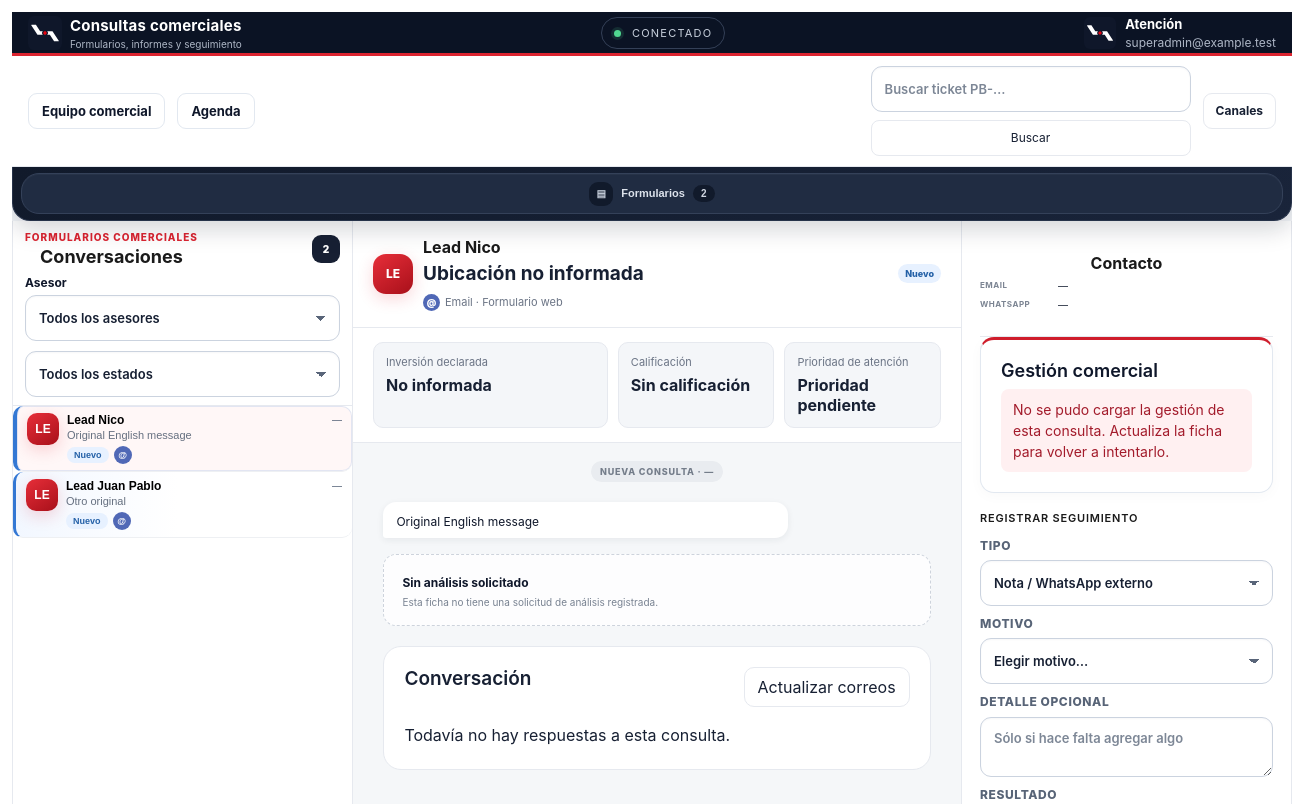
Test case: CRM histórico unificado › filtra la bandeja comercial por asignación persistida sin modificar casos ni traducir mensajes
Select "Mis consultas" in the dropdown named "Filtrar por asesor". click: [182, 318]
box: [25, 295, 340, 341]
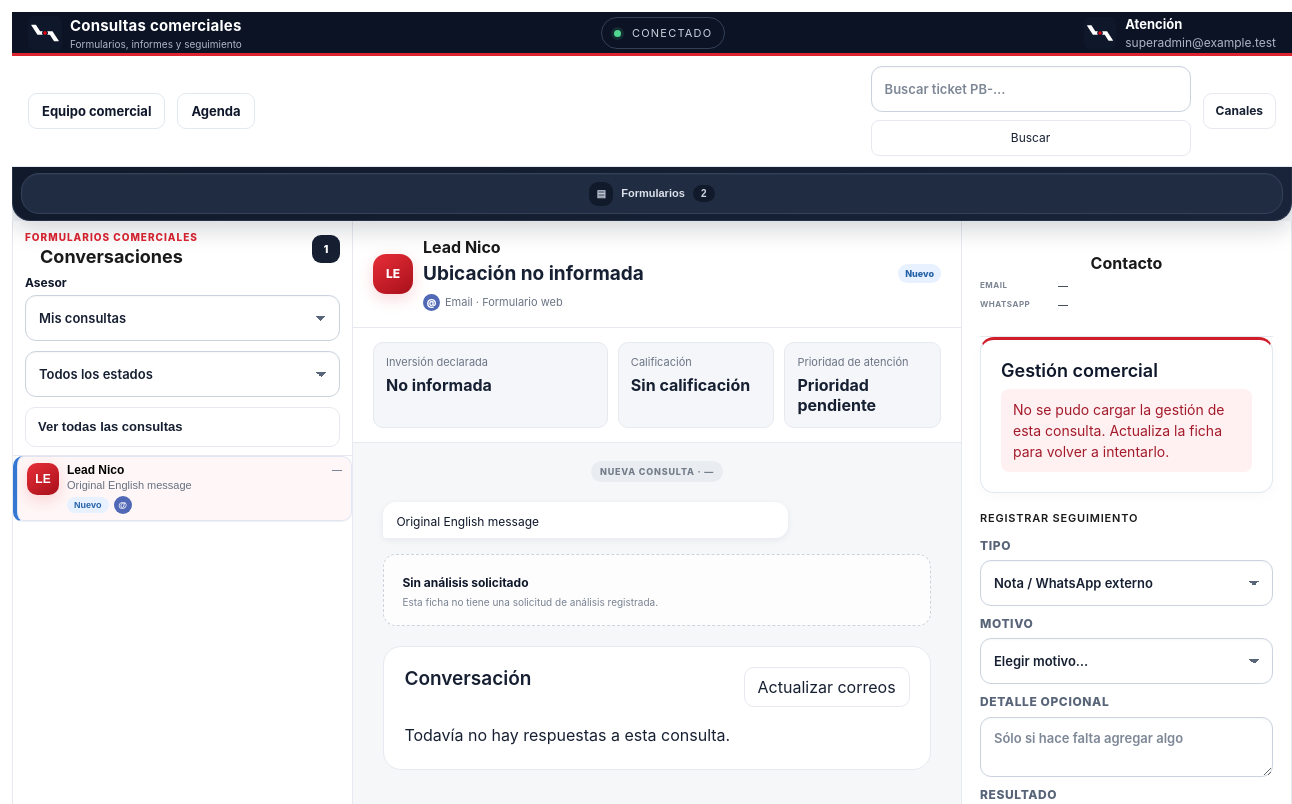
Check: the button "LE Lead Nico — Original English message Nuevo @" is shown, box [13, 456, 352, 522]
Check: the button "Lead Juan Pablo" is gone
Select "Juan Pablo" in the dropdown named "Filtrar por asesor". click: [182, 318]
box: [25, 295, 340, 341]
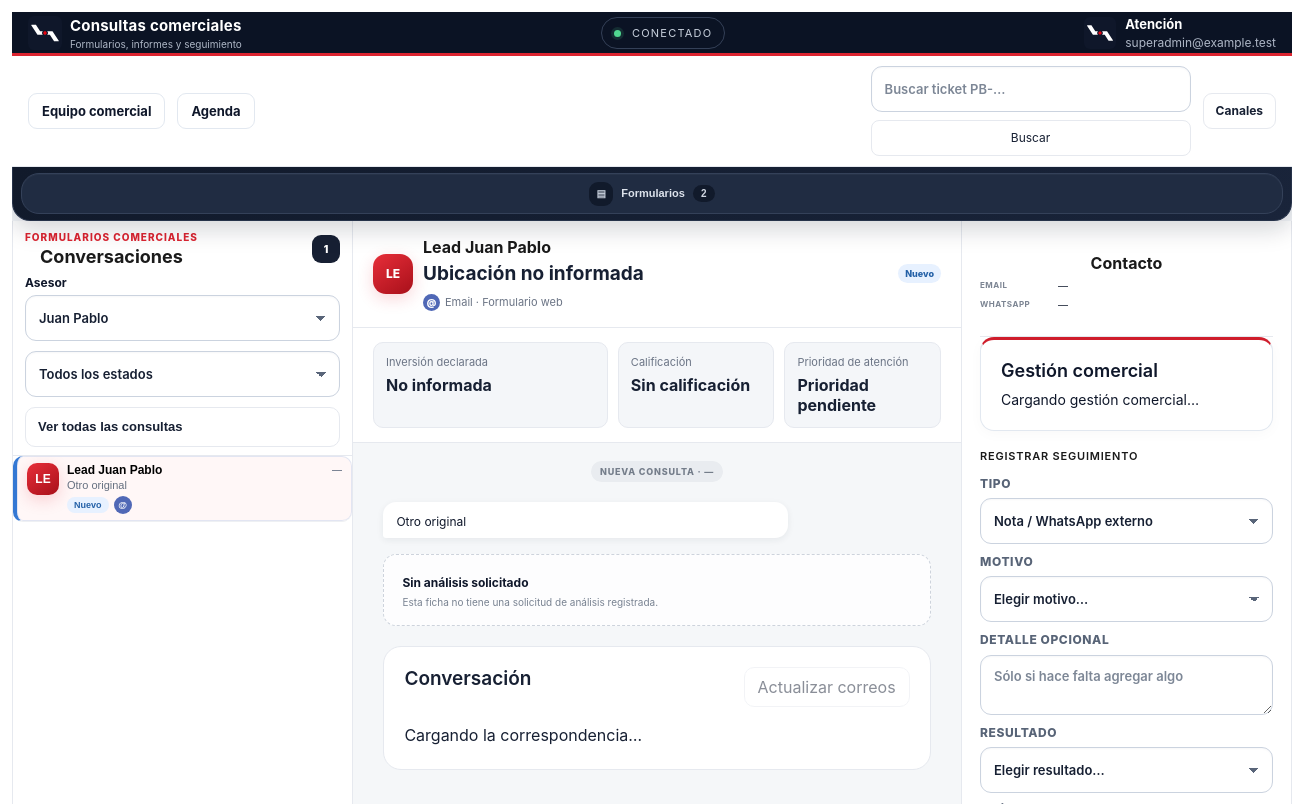
Check: the button "LE Lead Juan Pablo — Otro original Nuevo @" is shown, box [13, 456, 352, 522]
Select "Sin asignar" in the dropdown named "Filtrar por asesor". click: [182, 318]
box: [25, 295, 340, 341]
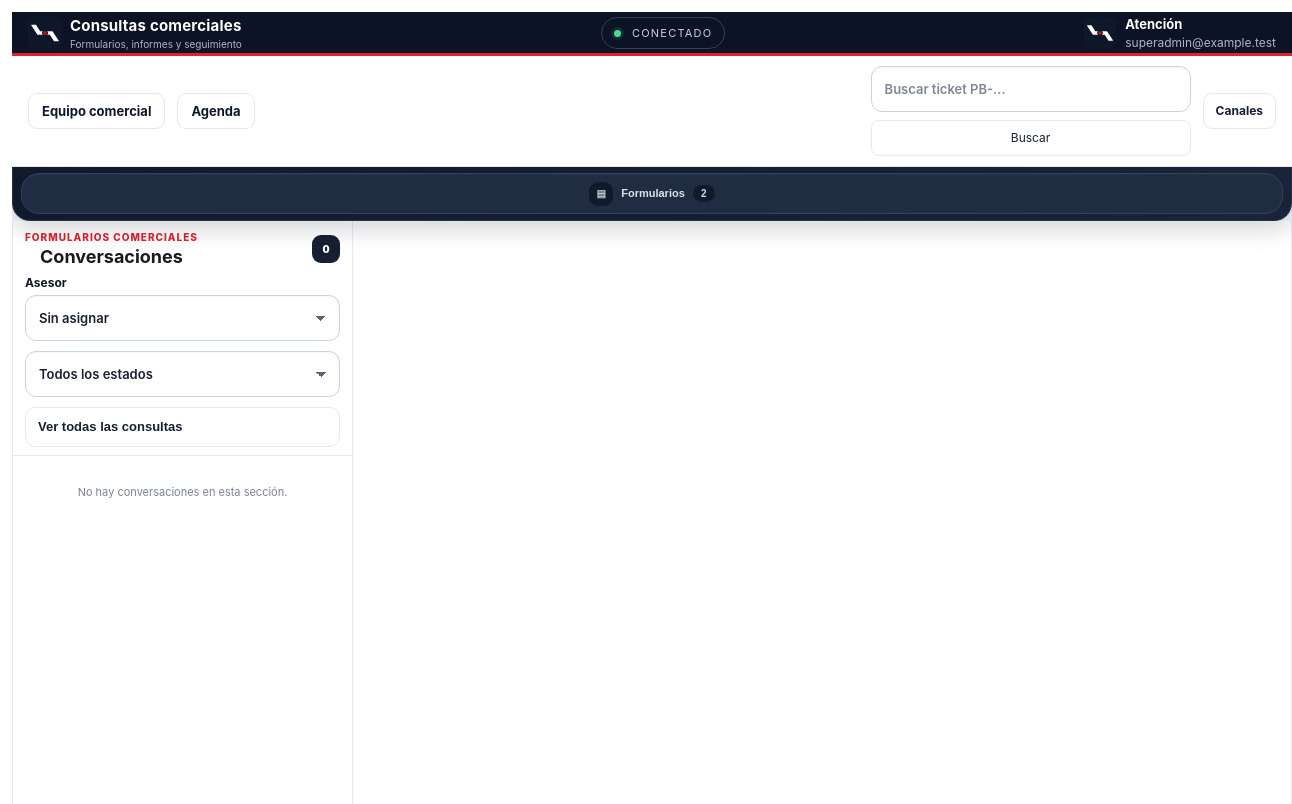
Check: the button "Lead Nico" is not shown
Click the button "Ver todas las consultas". click: [182, 427]
box: [25, 407, 340, 447]
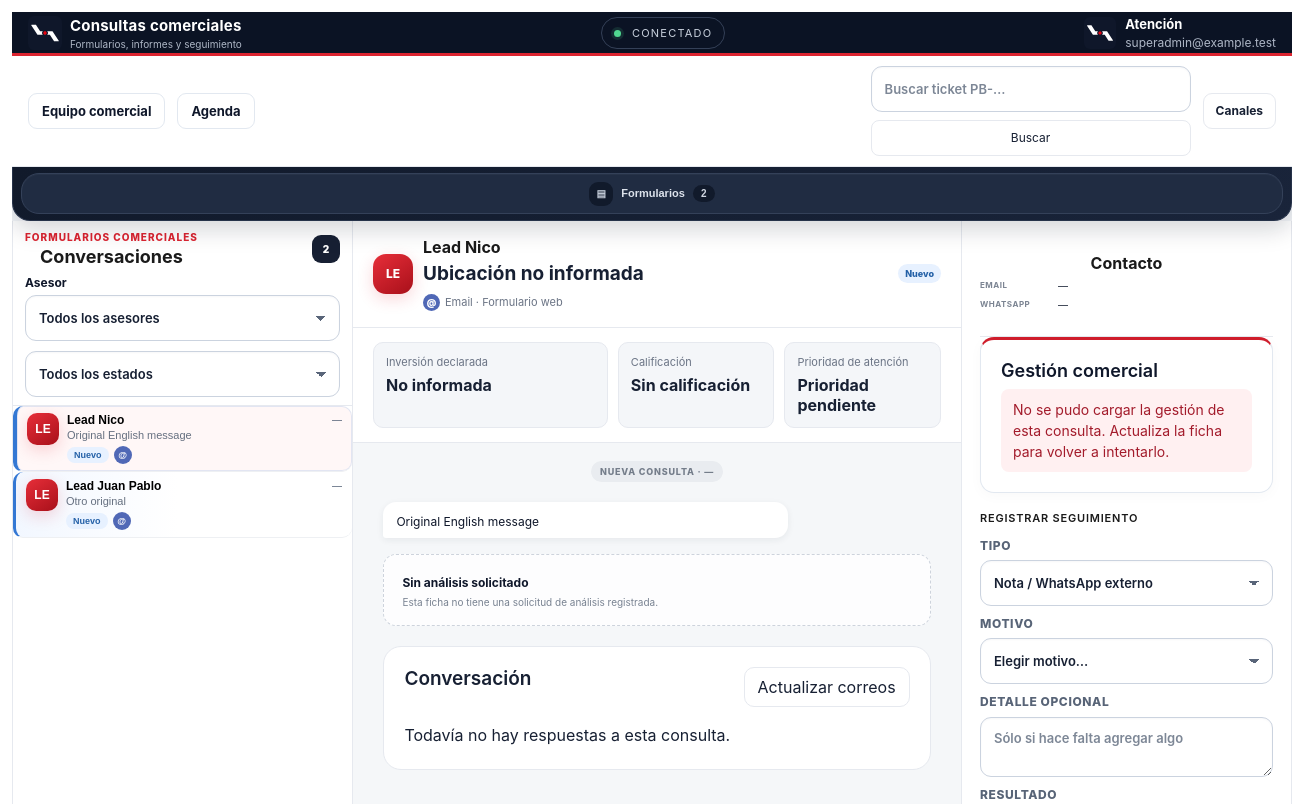
Check: the dropdown named "Estado" shows "Todos los estados", box [25, 351, 340, 397]
Check: the button "LE Lead Nico — Original English message Nuevo @" is shown, box [13, 406, 352, 472]
